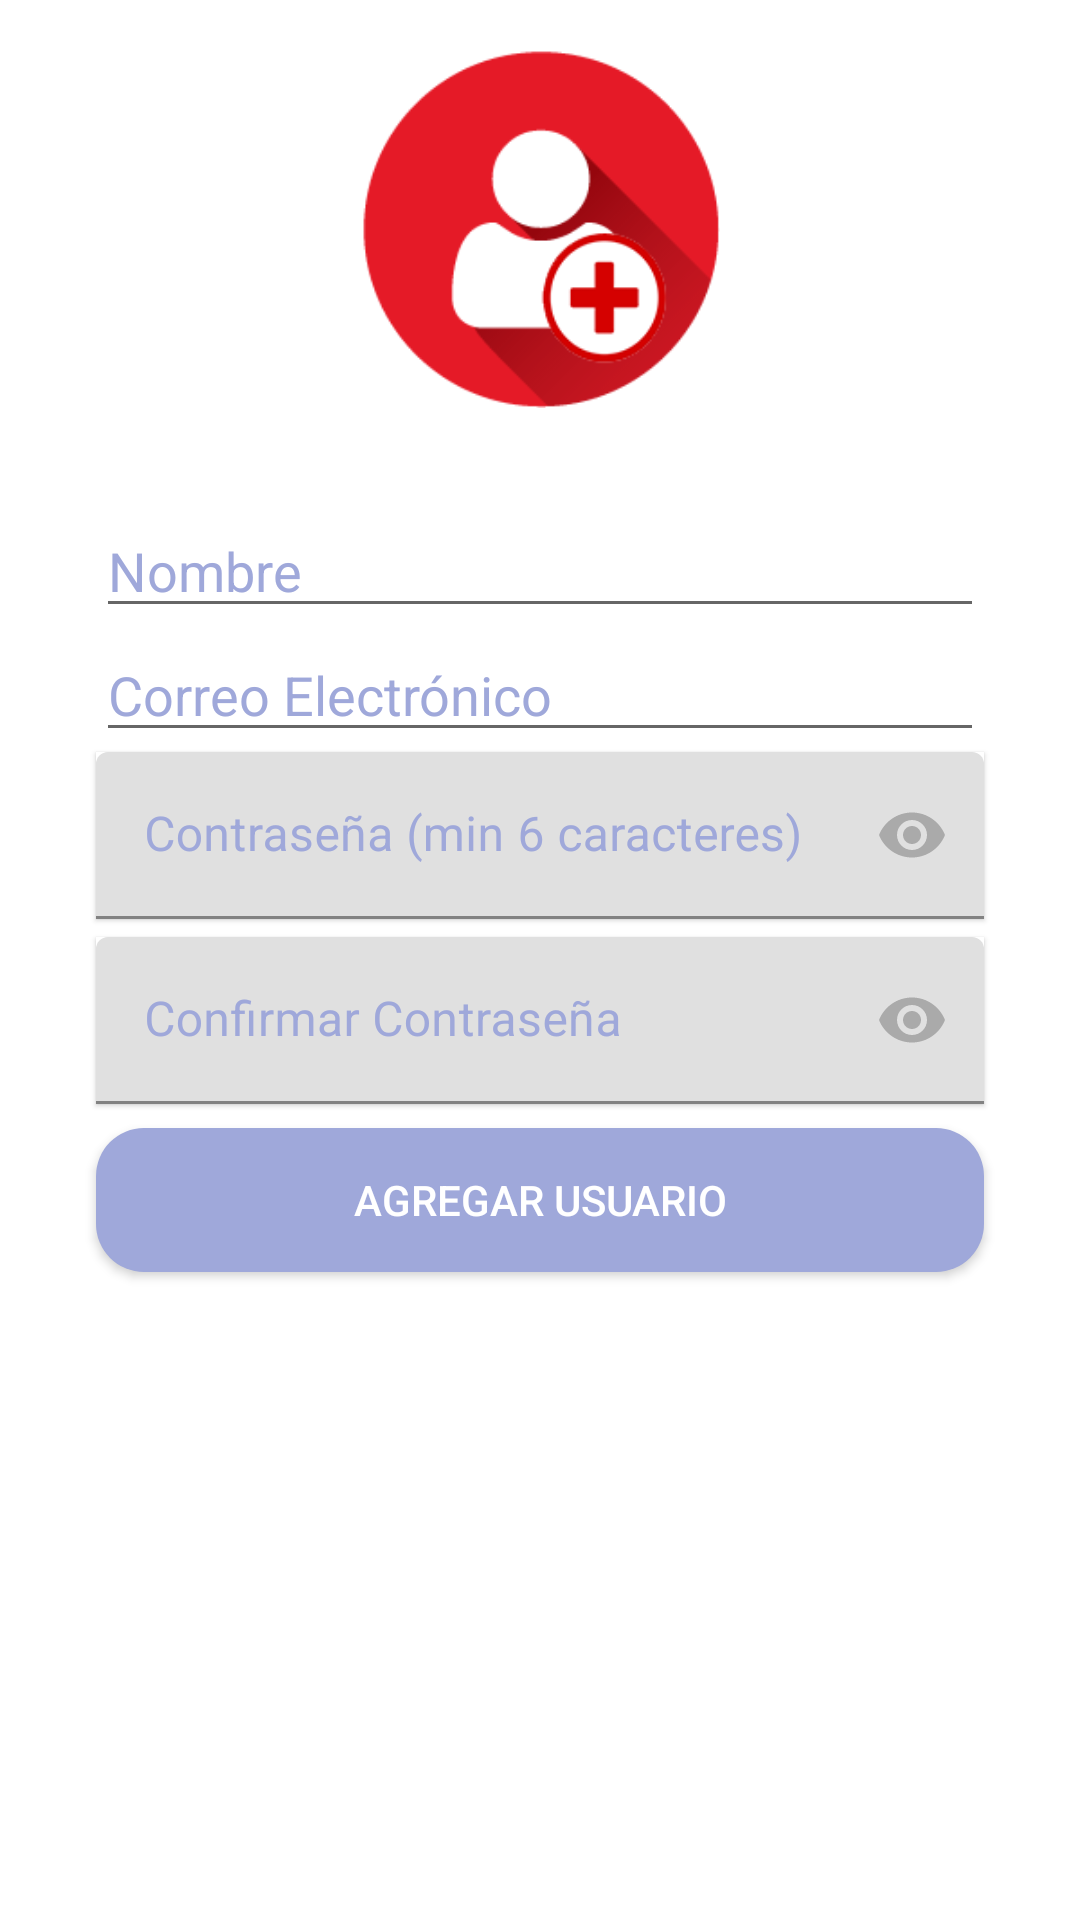

Screen size 1080px x 1920px. Icon name, then its box in pixels as bbox(x1, y1, x2, y2):
addusericon: bbox(363, 51, 719, 408)
